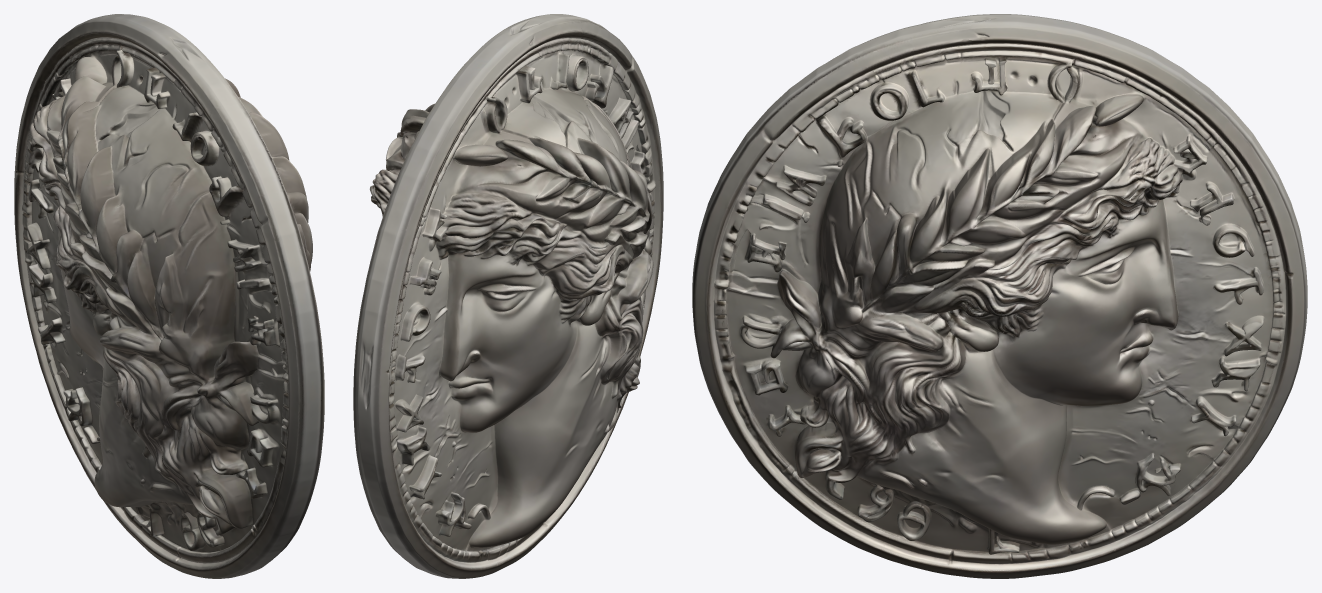
File: moeda-romana.glb
3 views of the same model, side by side, from view 1: azimuth 30°, elevation 25°; view 2: azimuth 150°, elevation 25°; view 3: azimuth 270°, elevation 25° (orthographic). The views are drawn at different scales.
Visible parts, largest first — view 1: tripo_node_a169d94d-ce94-47be-ba31-29b2de327192; view 2: tripo_node_a169d94d-ce94-47be-ba31-29b2de327192; view 3: tripo_node_a169d94d-ce94-47be-ba31-29b2de327192.
Part boxes in pixels (x1,y1,x2,y2): tripo_node_a169d94d-ce94-47be-ba31-29b2de327192: (14,14,324,578); tripo_node_a169d94d-ce94-47be-ba31-29b2de327192: (353,14,663,578); tripo_node_a169d94d-ce94-47be-ba31-29b2de327192: (692,14,1307,578).
Size of the model in its own units: 0.4305 by 0.9976 by 1.
1 material, 1 textured.
